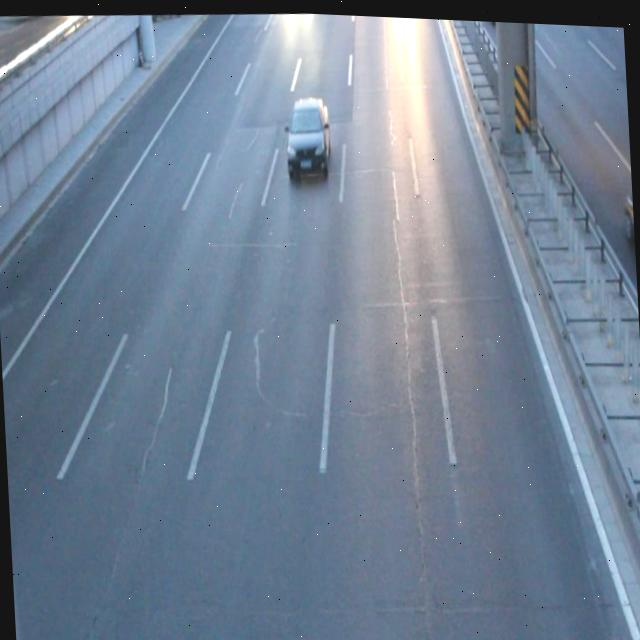car: (284, 94, 330, 175), (623, 175, 636, 255), (482, 17, 509, 21)
